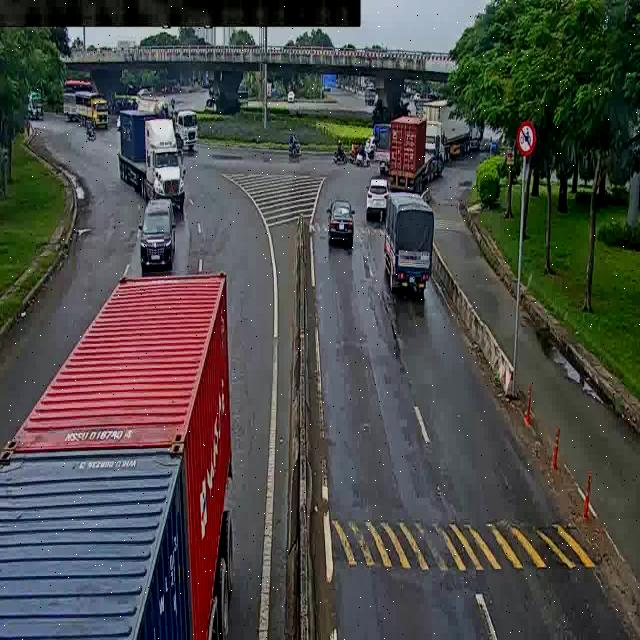car: (127, 193, 190, 271), (321, 193, 349, 244), (361, 173, 389, 215), (351, 81, 377, 105)
motorbike: (75, 120, 99, 142), (352, 144, 370, 166), (332, 141, 344, 167), (291, 133, 305, 154)
truck: (3, 269, 247, 640), (109, 106, 186, 203), (379, 192, 440, 300), (389, 115, 455, 190), (422, 94, 480, 166), (68, 87, 119, 128)
